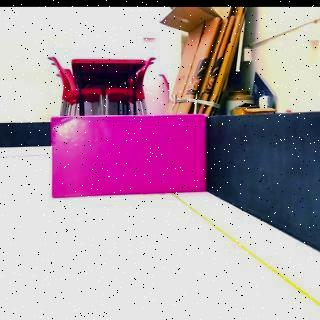xparking: (51, 114, 207, 198)
